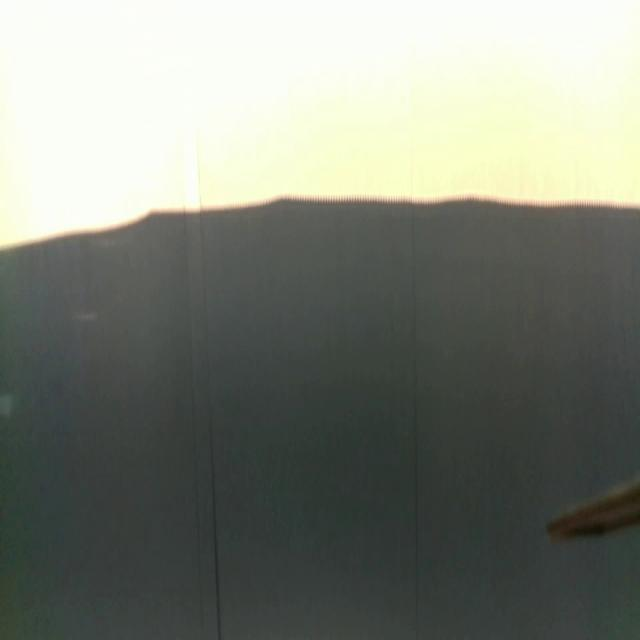crease: (198, 210, 222, 639), (409, 204, 421, 640)
